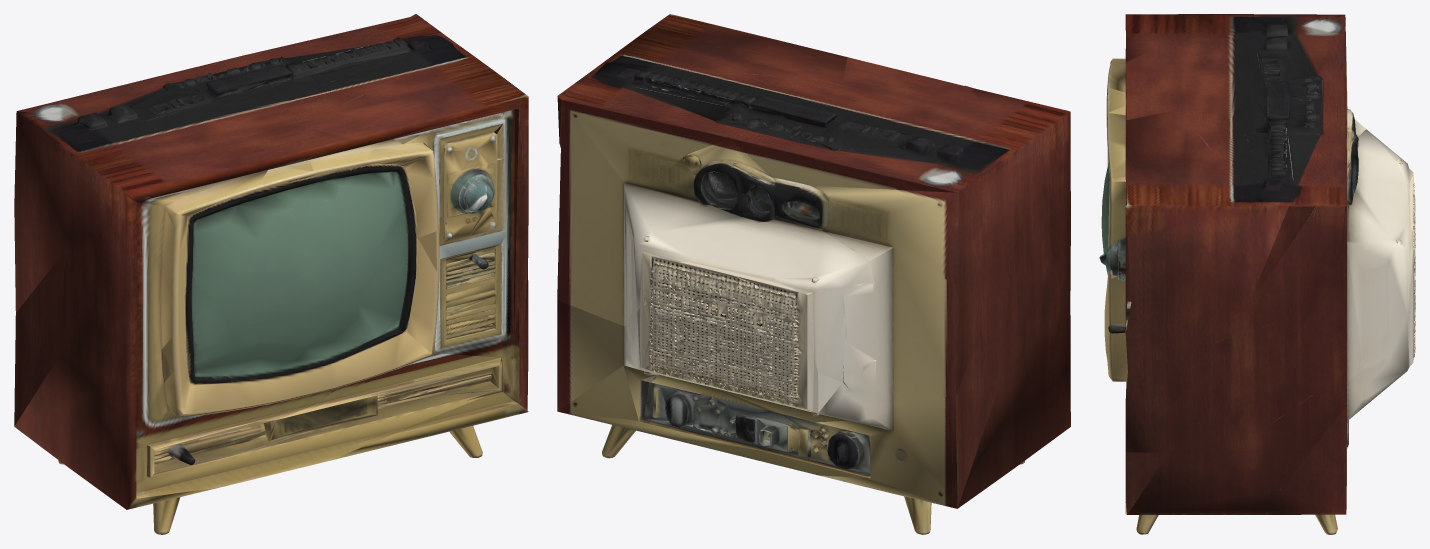
The model's file is Television.fbx.
3 views of the same model, side by side, from view 1: azimuth 30°, elevation 25°; view 2: azimuth 150°, elevation 25°; view 3: azimuth 270°, elevation 25° (orthographic). The views are drawn at different scales.
Parts seen in each view (by area): view 1: output_unwrapped; view 2: output_unwrapped; view 3: output_unwrapped.
Boxes of the visible parts, left/top/right/bottom form: output_unwrapped: left=14, top=14, right=528, bottom=534; output_unwrapped: left=557, top=14, right=1070, bottom=534; output_unwrapped: left=1099, top=14, right=1415, bottom=534.
Size of the model in its own units: 190 by 166 by 132.
1 material, 1 textured.
